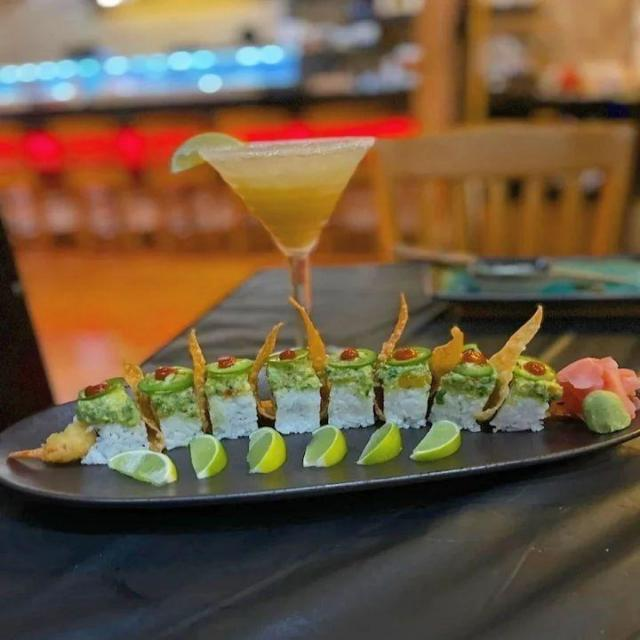glass-wine: (198, 134, 380, 336)
